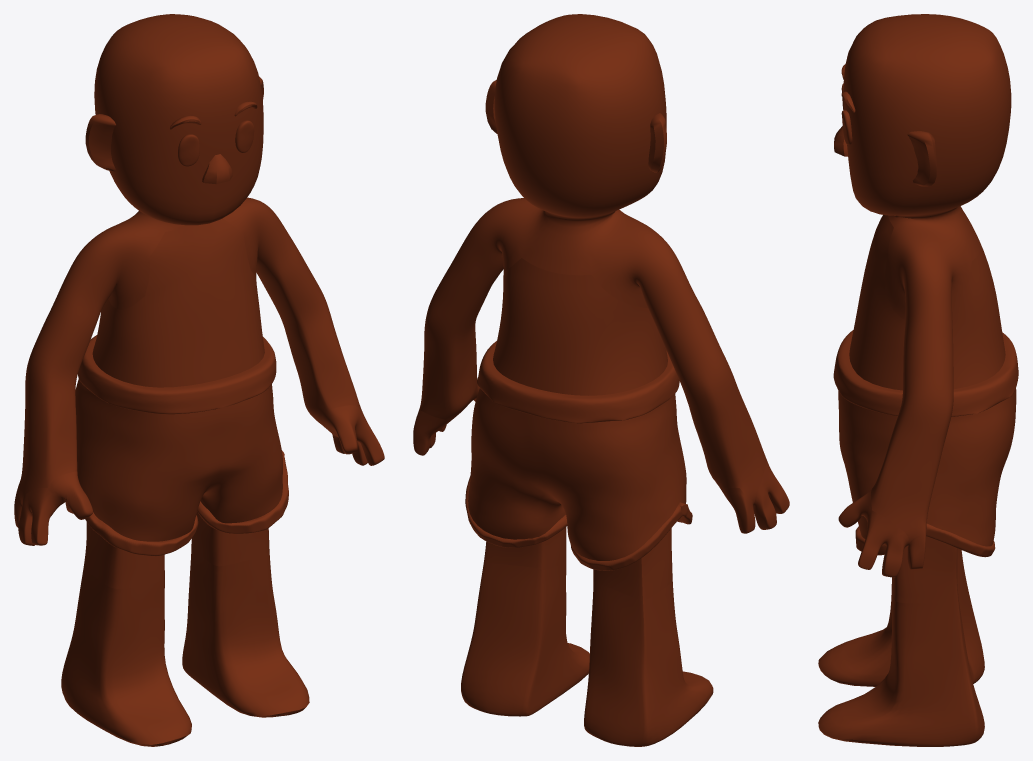
Rendered from avatar.glb.
The picture shows the model from 3 angles, left to right: view 1: azimuth 30°, elevation 25°; view 2: azimuth 150°, elevation 25°; view 3: azimuth 270°, elevation 25°; orthographic projection.
Parts seen in each view (by area): view 1: Object_9, Object_7, Object_3, Object_8, Object_2, Object_4, Object_5; view 2: Object_9, Object_3, Object_8, Object_7, Object_2, Object_6; view 3: Object_9, Object_3, Object_7, Object_8, Object_2, Object_6.
Part boxes in pixels (x1,y1,x2,y2): Object_9: [18, 14, 361, 511]; Object_7: [14, 218, 384, 588]; Object_3: [61, 543, 309, 746]; Object_8: [75, 379, 282, 541]; Object_2: [78, 76, 276, 414]; Object_4: [85, 455, 288, 556]; Object_5: [178, 120, 254, 166]; Object_9: [418, 14, 766, 501]; Object_3: [461, 558, 713, 746]; Object_8: [468, 388, 686, 560]; Object_7: [413, 258, 789, 600]; Object_2: [477, 80, 679, 423]; Object_6: [465, 475, 687, 570]; Object_9: [843, 14, 1011, 542]; Object_3: [818, 549, 984, 746]; Object_7: [838, 215, 1005, 603]; Object_8: [838, 388, 1016, 546]; Object_2: [833, 64, 1018, 416]; Object_6: [926, 523, 995, 557].
Bounding box in the file's own units: 0.7579 × 1.39 × 0.3732.
